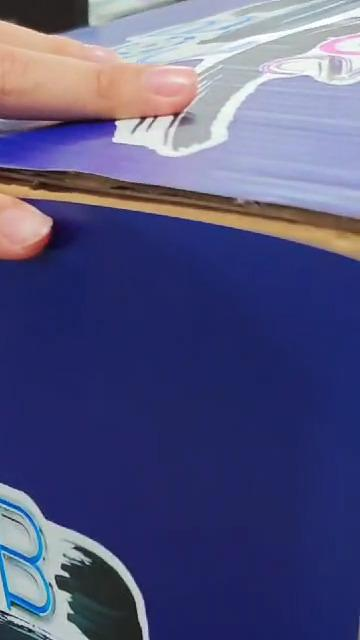B_R1: (0, 371, 286, 640)
